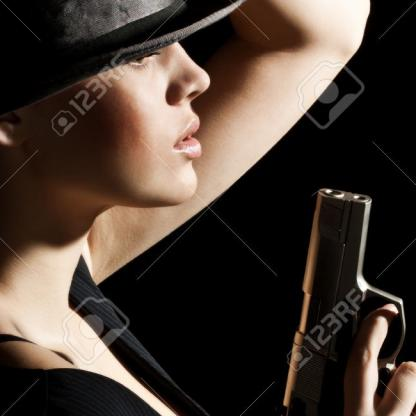gun: (252, 168, 416, 416)
